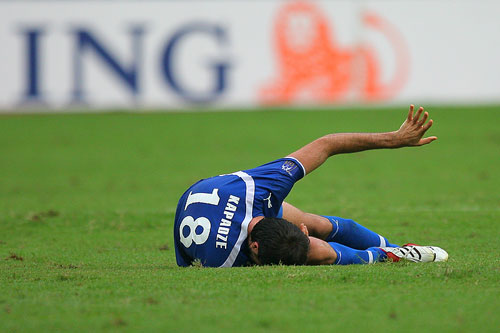down: (167, 101, 454, 272)
